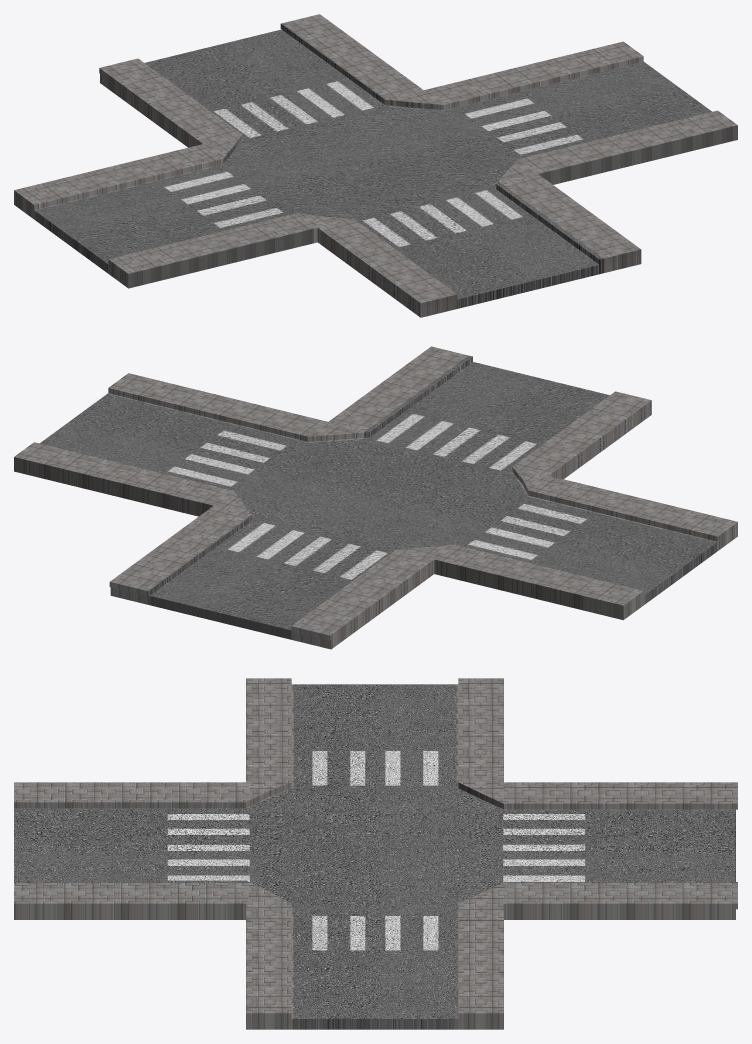
File: Ruazinha_ALLSIDUUUUUUUUUUUUUS.fbx
The picture shows the model from 3 angles, top to bottom: view 1: azimuth 30°, elevation 25°; view 2: azimuth 150°, elevation 25°; view 3: azimuth 270°, elevation 25°; orthographic projection. The views are drawn at different scales.
Parts seen in each view (by area): view 1: pCube1; view 2: pCube1; view 3: pCube1.
Boxes of the visible parts, <box> form: pCube1: <box>14,14,737,317</box>; pCube1: <box>14,346,737,649</box>; pCube1: <box>14,678,737,1029</box>.
Size of the model in its own units: 72.76 by 1.66 by 66.49.
Materials: 1 (1 with a texture image).
